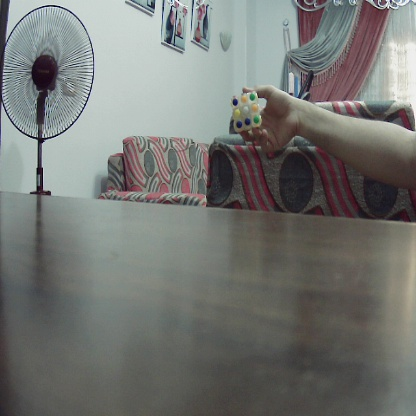Rubix Cube: (233, 91, 263, 130)
